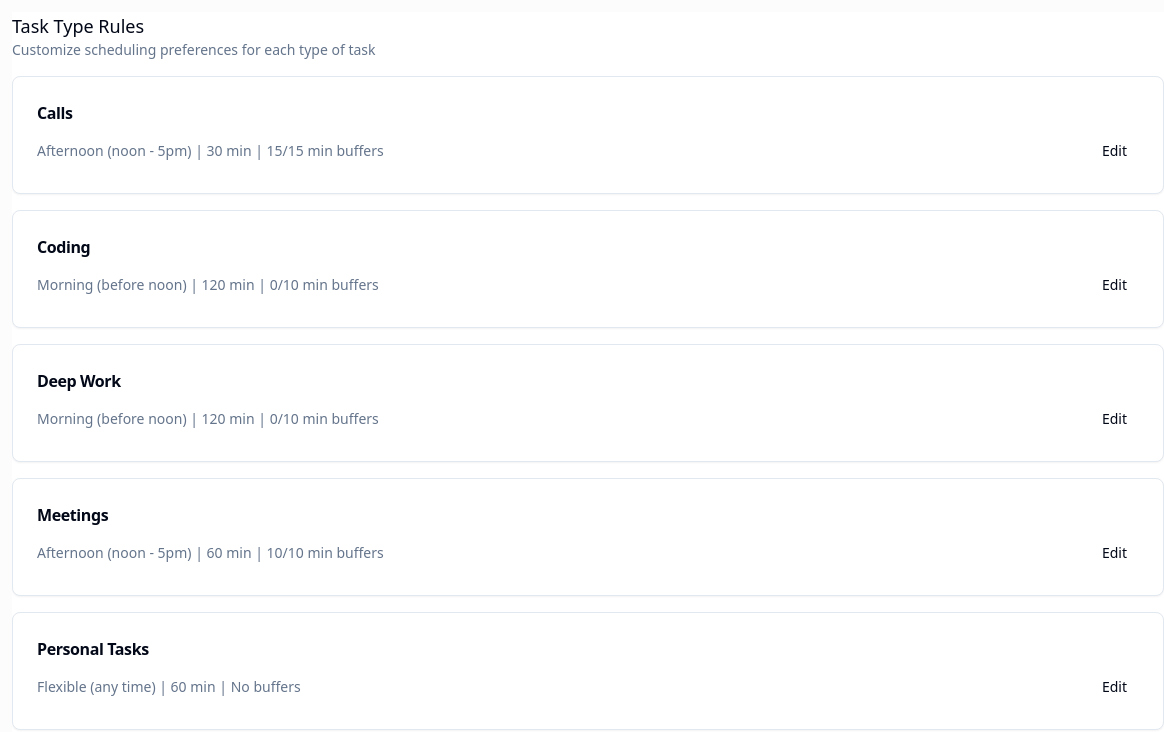
Test: TaskTypeRules › editing › cancels editing when cancel button is clicked
The width and height of the screenshot is (1164, 732).
What coordinates should you click on to do the following:
click the button with test id "edit-rule-deep_work"
I would click on:
 (1114, 419)
Its box is top-left (1090, 401), bottom-right (1139, 437).
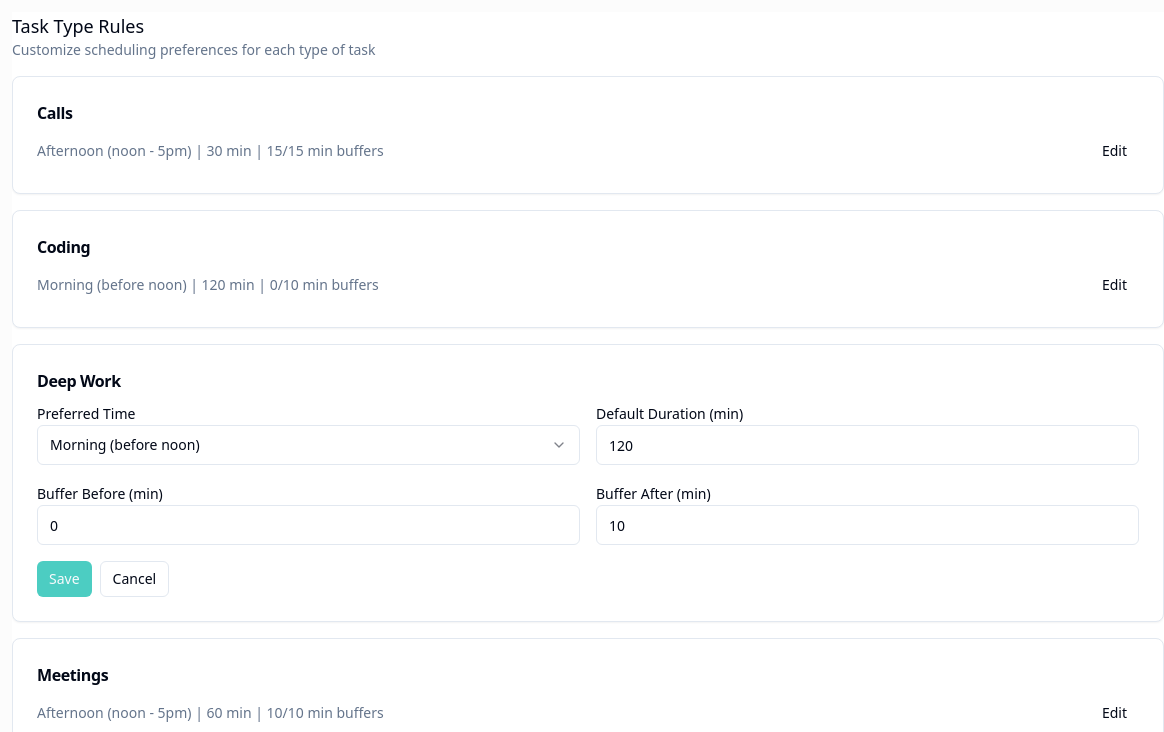
What coordinates should you click on to do the following:
click the button with test id "cancel-rule-deep_work"
I would click on:
 (134, 579)
Its box is top-left (100, 561), bottom-right (169, 597).
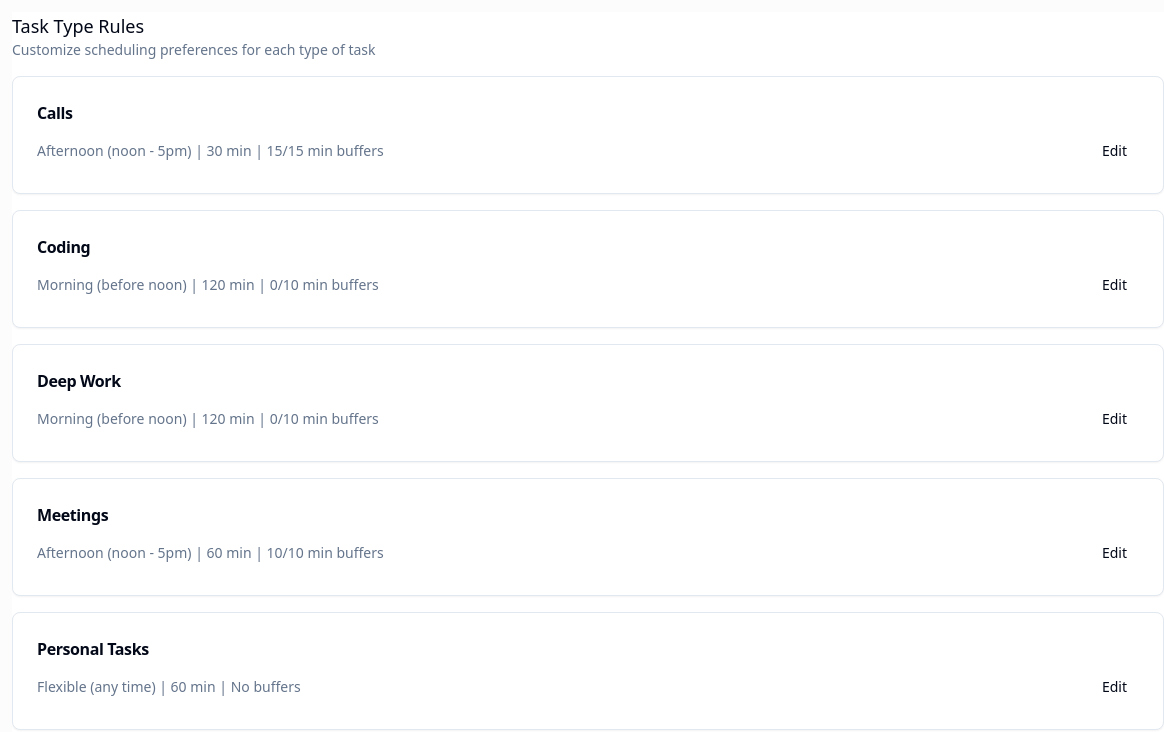
Now the button with test id "save-rule-deep_work" is gone
Now the button with test id "edit-rule-deep_work" is shown, box top-left (1090, 401), bottom-right (1139, 437)
